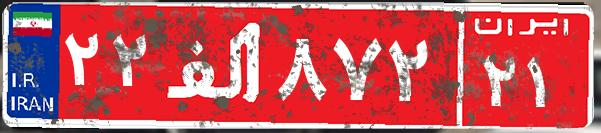1: (525, 38, 570, 115)
2: (385, 28, 445, 110), (57, 26, 110, 107), (475, 38, 525, 113), (110, 28, 158, 105)
7: (330, 28, 385, 110)
8: (273, 28, 330, 110)
الف: (158, 15, 273, 115)
